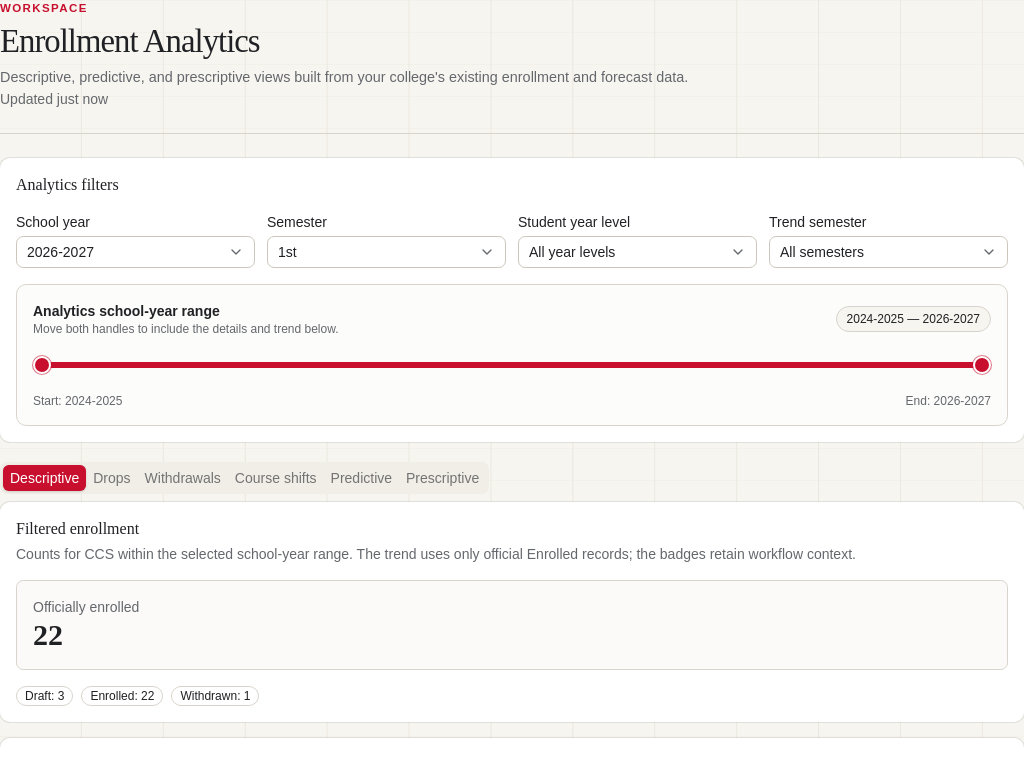
Test: AnalyticsDashboardWorkspace › shows a read-only forecast table on the Predictive tab
Expected: the text "Enrolled: 22" is shown, 81,686 -> 164,706
Step 1. Click the tab "Predictive" → (361, 478), box 324,465 -> 399,491
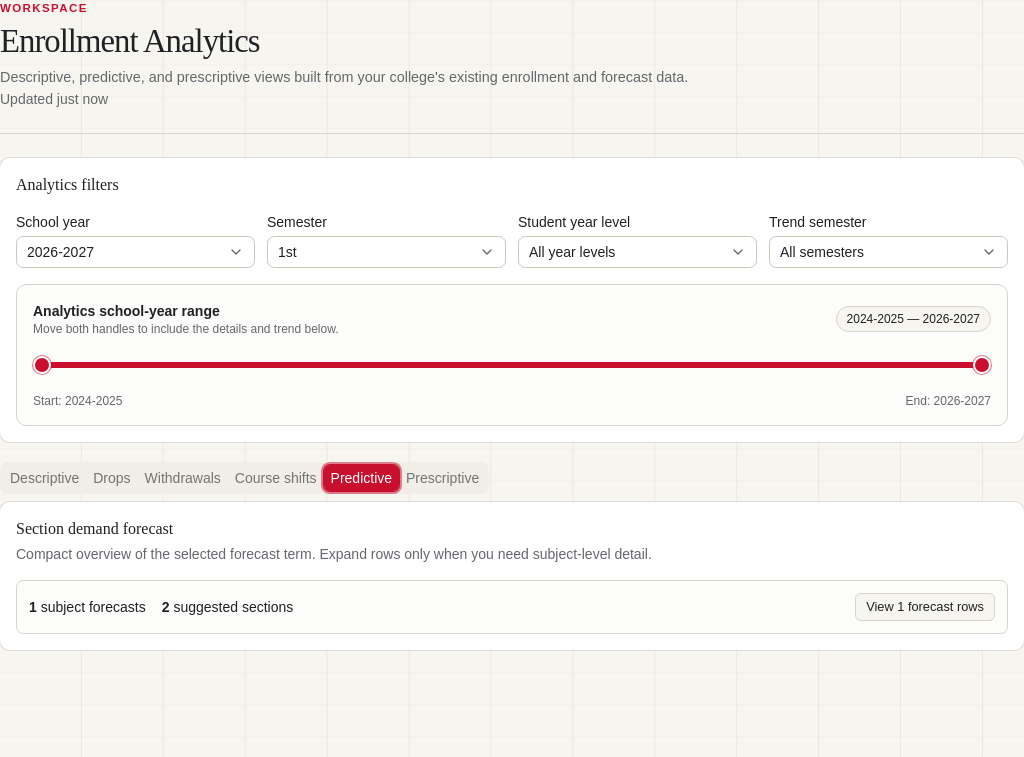
Step 2. Click the button "View 1 forecast rows" → (925, 607), box 855,593 -> 995,621
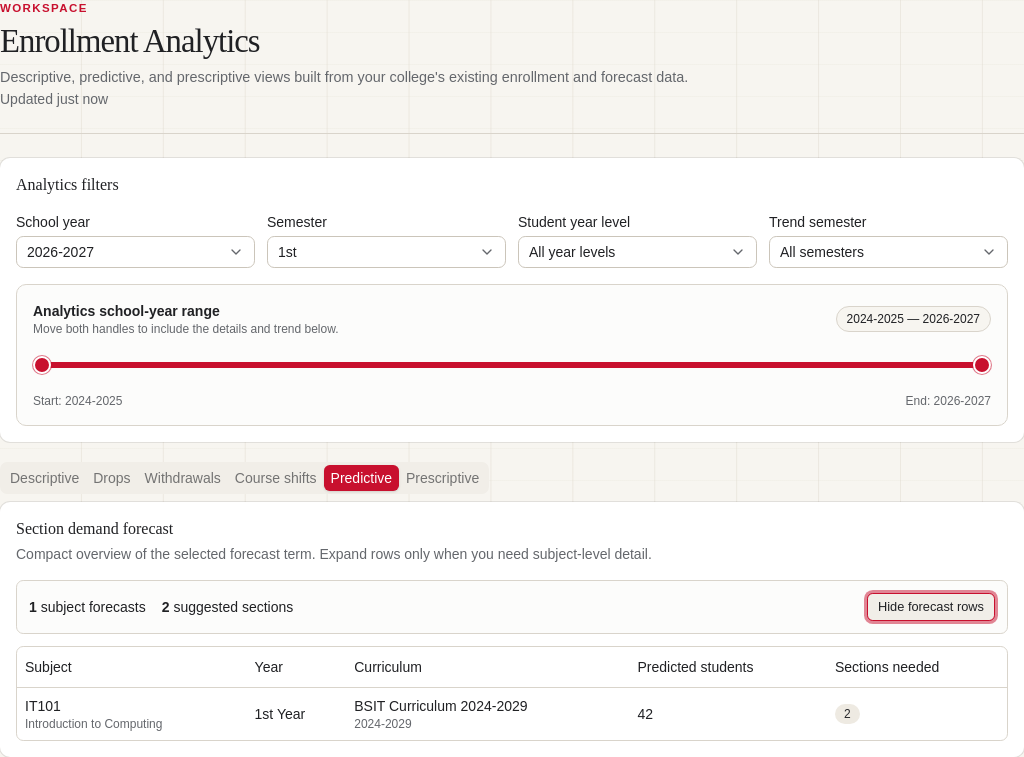
Now the text "IT101" is shown, box 25,698 -> 61,714
Now the text "42" is shown, box 630,687 -> 827,740
